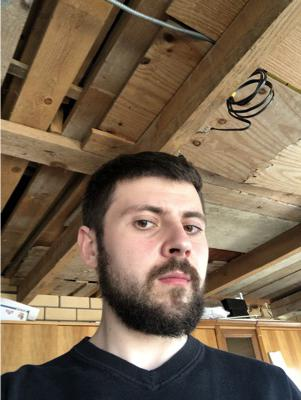without_mask: (108, 195, 206, 338)
